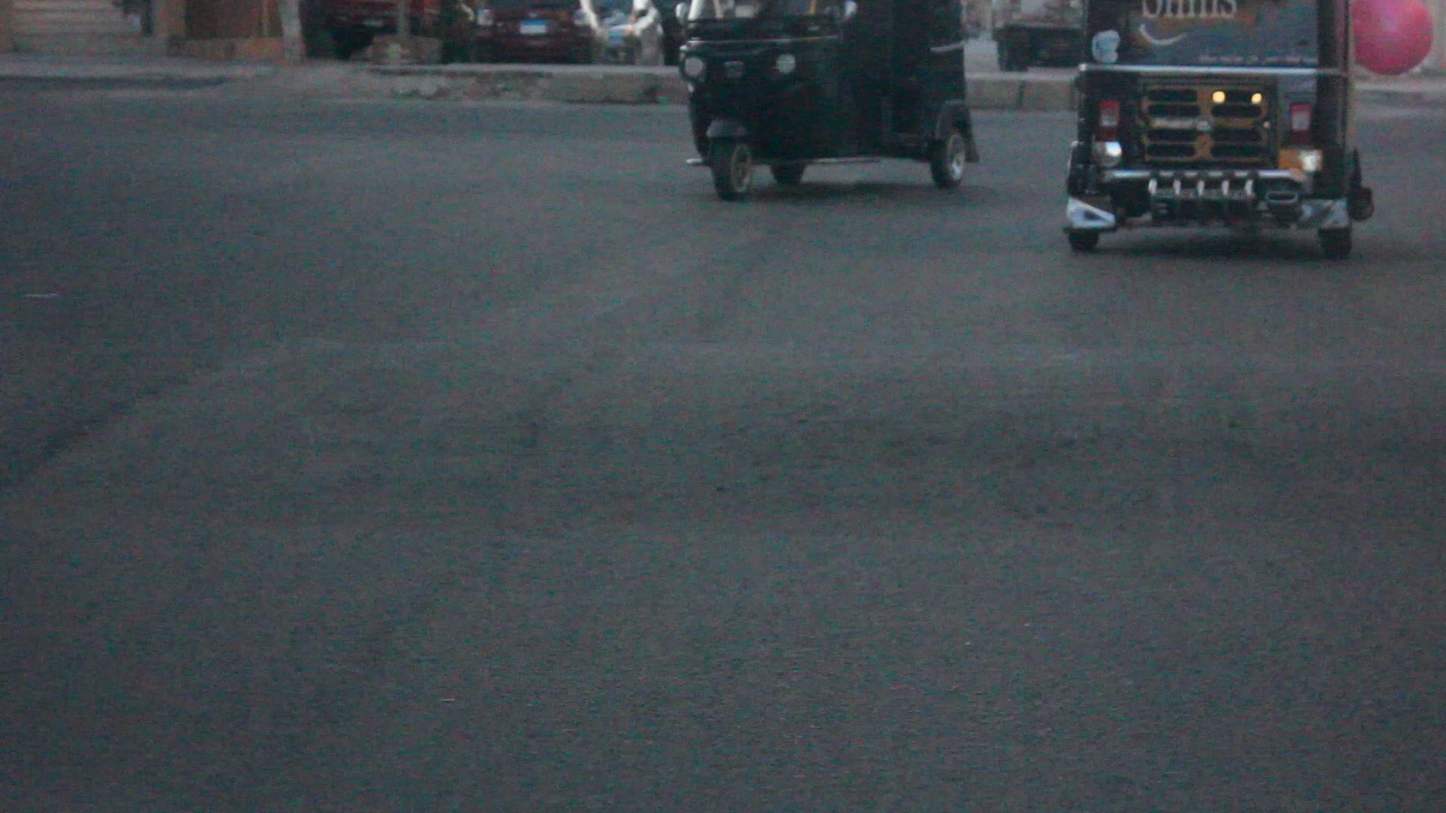Bump: (2, 326, 1446, 533)
